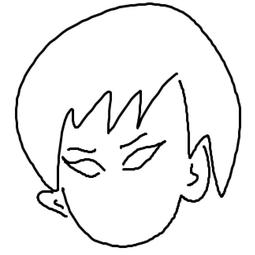ear: (27, 185, 76, 219)
empty_eye: (121, 139, 170, 176), (62, 155, 106, 178)
eyebrow: (64, 147, 99, 155)
frowning_eyebrow: (119, 131, 151, 150)
large_ear: (180, 135, 219, 207)
